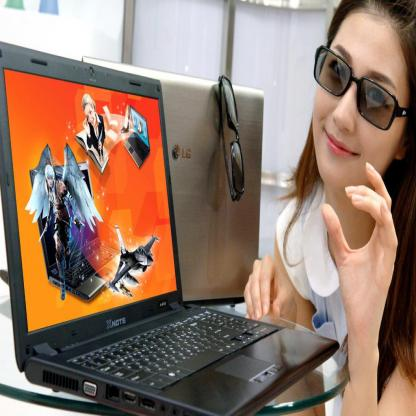board: (0, 45, 338, 411), (81, 54, 264, 303)
